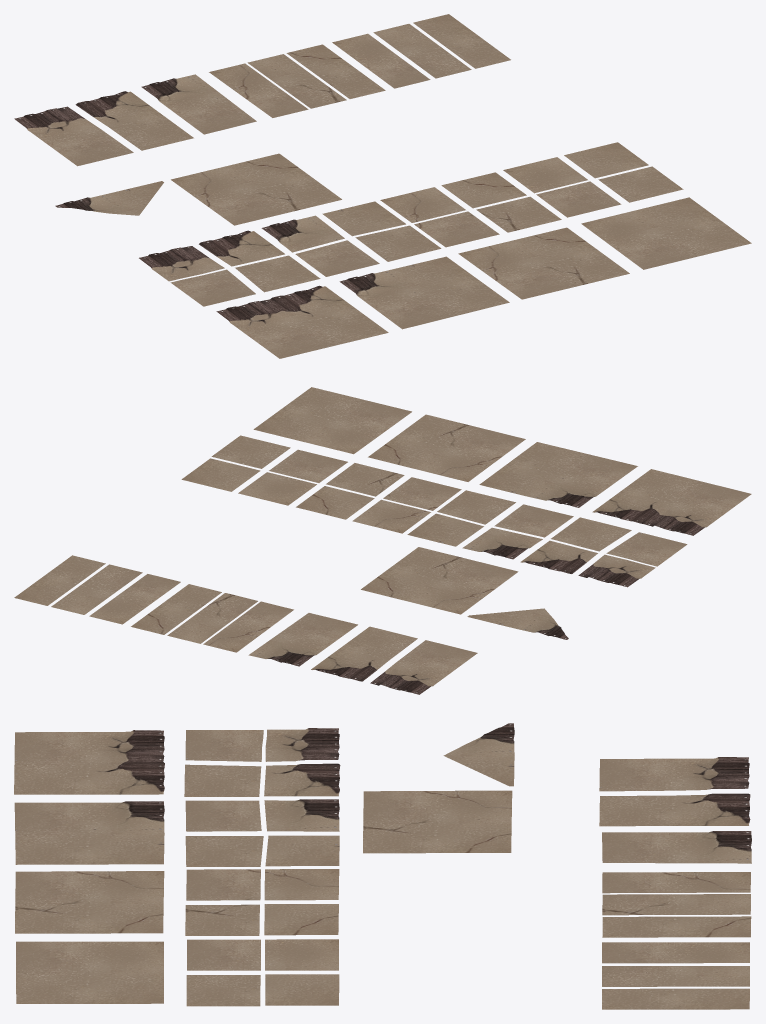
The model's file is Wall.FBX.
The picture shows the model from 3 angles, top to bottom: view 1: azimuth 30°, elevation 25°; view 2: azimuth 150°, elevation 25°; view 3: azimuth 270°, elevation 25°; orthographic projection. The views are drawn at different scales.
Parts seen in each view (by area): view 1: Wall Half Optimized, Wall Hole Optimized, Wall Cracked Optimized, Wall Clean Optimized, Wall Half Thin 1 Optimized, Wall Hole Thin Optimized, Wall Half Thin 2 Optimized, Wall Cracked Thiin 2 Optimized, Wall Cracked Thiin 1 Optimized, Wall Cracked Thiin 3 Optimized, Wall Clean Thin 1 Optimized, Wall Clean Thin 2 Optimized (+22 smaller); view 2: Wall Cracked Optimized, Wall Clean Optimized, Wall Half Optimized, Wall Hole Optimized, Wall Half Thin 1 Optimized, Wall Half Thin 2 Optimized, Wall Hole Thin Optimized, Wall Cracked Thiin 1 Optimized, Wall Cracked Thiin 2 Optimized, Wall Cracked Thiin 3 Optimized, Wall Clean Thin 2 Optimized, Wall Clean Thin 1 Optimized (+22 smaller); view 3: Wall Half Optimized, Wall Hole Optimized, Wall Cracked Optimized, Wall Clean Optimized, Wall Half Thin 1 Optimized, Wall Hole Thin Optimized, Wall Half Thin 2 Optimized, Wall Cracked Thiin 3 Optimized, Wall Clean Thin 3 Optimized, Wall Clean Thin 1 Optimized, Wall Cracked Thiin 2 Optimized, Wall Cracked Thiin 1 Optimized (+22 smaller).
Part boxes in pixels (x1,y1,x2,y2): Wall Half Optimized: (216,285,388,358); Wall Hole Optimized: (339,256,509,329); Wall Cracked Optimized: (458,227,629,299); Wall Clean Optimized: (581,197,751,269); Wall Half Thin 1 Optimized: (14,106,133,166); Wall Hole Thin Optimized: (141,74,256,134); Wall Half Thin 2 Optimized: (75,91,193,150); Wall Cracked Thiin 2 Optimized: (247,54,346,108); Wall Cracked Thiin 1 Optimized: (209,63,308,117); Wall Cracked Thiin 3 Optimized: (286,44,385,98); Wall Clean Thin 1 Optimized: (332,33,430,88); Wall Clean Thin 2 Optimized: (373,24,471,78); Wall Cracked Optimized: (368,414,525,481); Wall Clean Optimized: (253,387,411,454); Wall Half Optimized: (592,469,751,535); Wall Hole Optimized: (479,442,637,507); Wall Half Thin 1 Optimized: (370,640,477,694); Wall Half Thin 2 Optimized: (311,626,417,681); Wall Hole Thin Optimized: (248,613,357,666); Wall Cracked Thiin 1 Optimized: (203,601,293,652); Wall Cracked Thiin 2 Optimized: (167,593,257,643); Wall Cracked Thiin 3 Optimized: (131,584,221,634); Wall Clean Thin 2 Optimized: (51,564,142,614); Wall Clean Thin 1 Optimized: (89,574,180,624); Wall Half Optimized: (14,730,164,794); Wall Hole Optimized: (14,801,164,864); Wall Cracked Optimized: (15,871,164,933); Wall Clean Optimized: (16,941,163,1003); Wall Half Thin 1 Optimized: (599,757,749,791); Wall Hole Thin Optimized: (602,831,751,863); Wall Half Thin 2 Optimized: (599,793,750,826); Wall Cracked Thiin 3 Optimized: (602,916,751,937); Wall Clean Thin 3 Optimized: (602,988,749,1009); Wall Clean Thin 1 Optimized: (602,942,749,963); Wall Cracked Thiin 2 Optimized: (602,894,750,915); Wall Cracked Thiin 1 Optimized: (602,872,750,893).
Size of the model in its own units: 1099 by 1207 by 5.92.
1 material, 1 textured.
